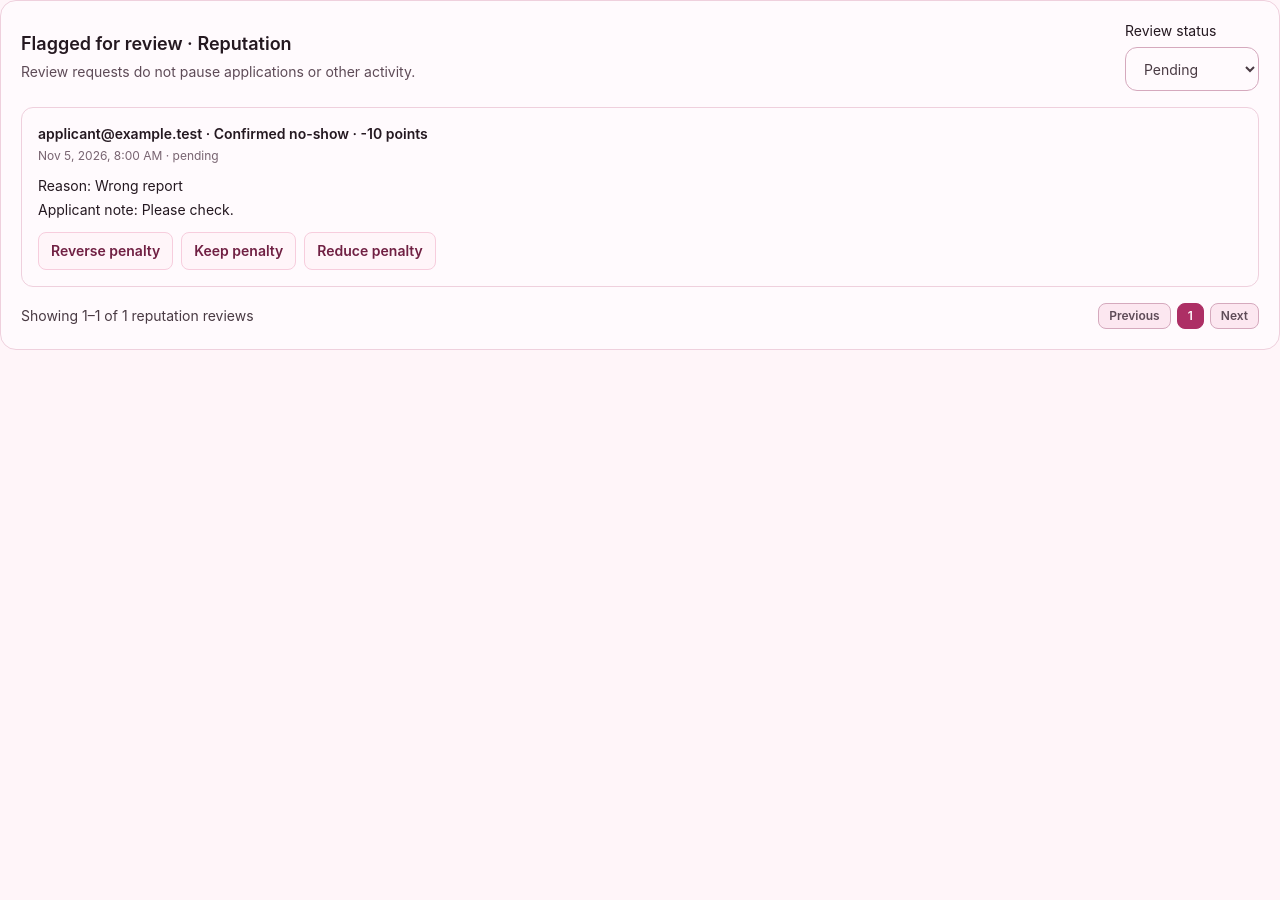
Test: requires confirmation and a private note for the reduce review action
This screenshot has width=1280, height=900.
Click the button "Reduce penalty": [370, 251] box [304,232,436,270]
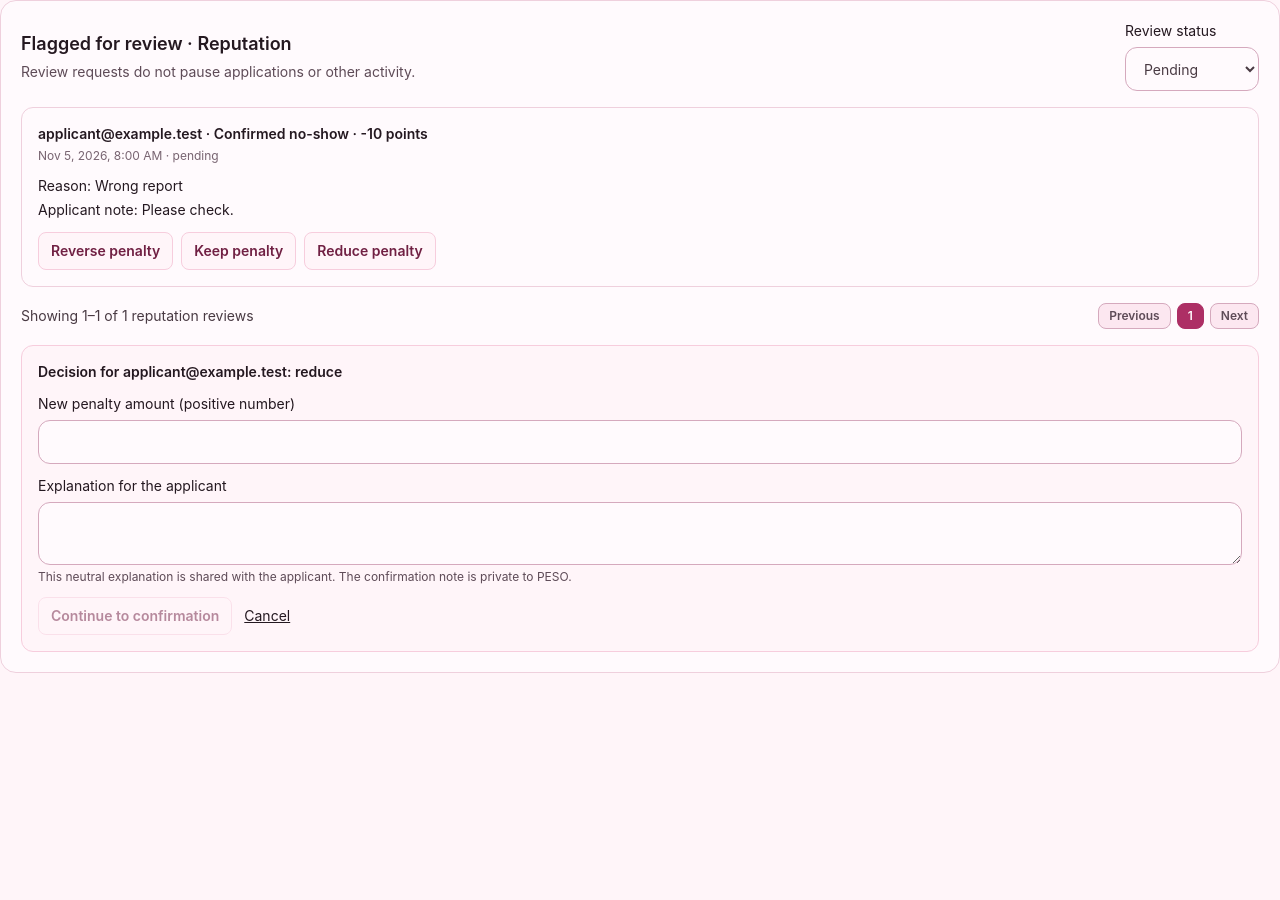
In the text box labelled "Explanation for the applicant": [640, 533] box [38,502,1242,565], type "PESO reviewed the available information."
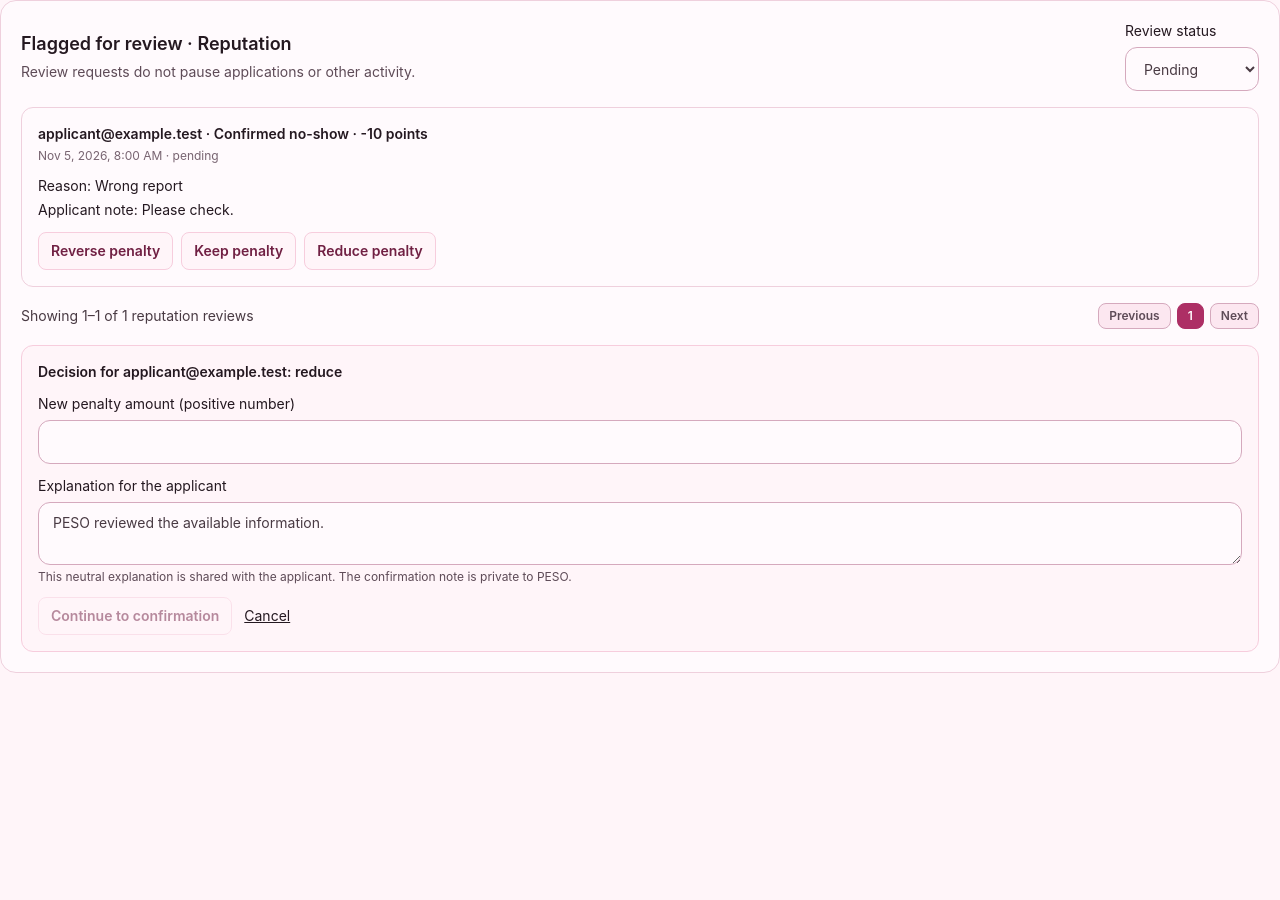
In the number field labelled "New penalty amount (positive number)": [640, 442] box [38,420,1242,464], type "3"
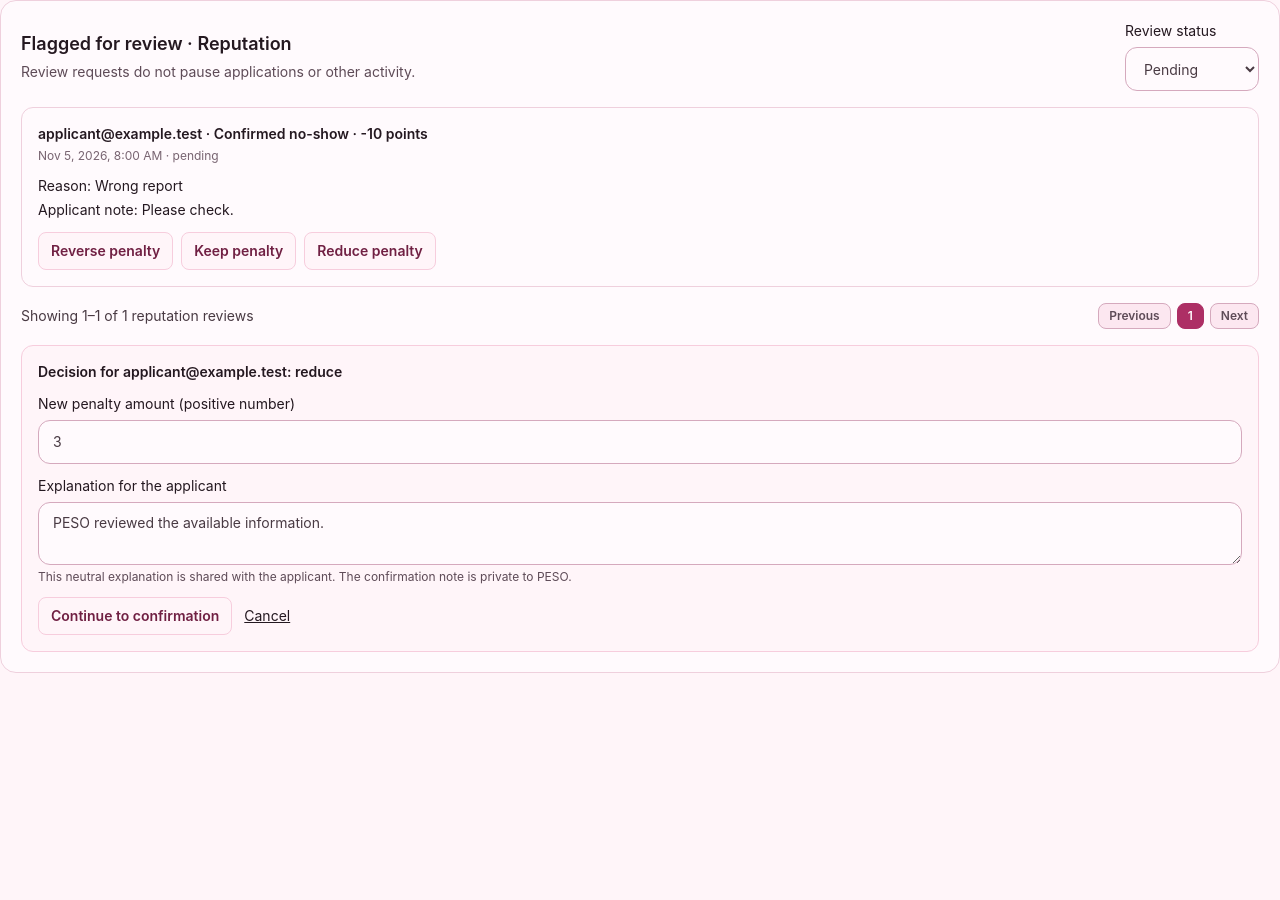
Click the button "Continue to confirmation": [135, 616] box [38,597,232,635]
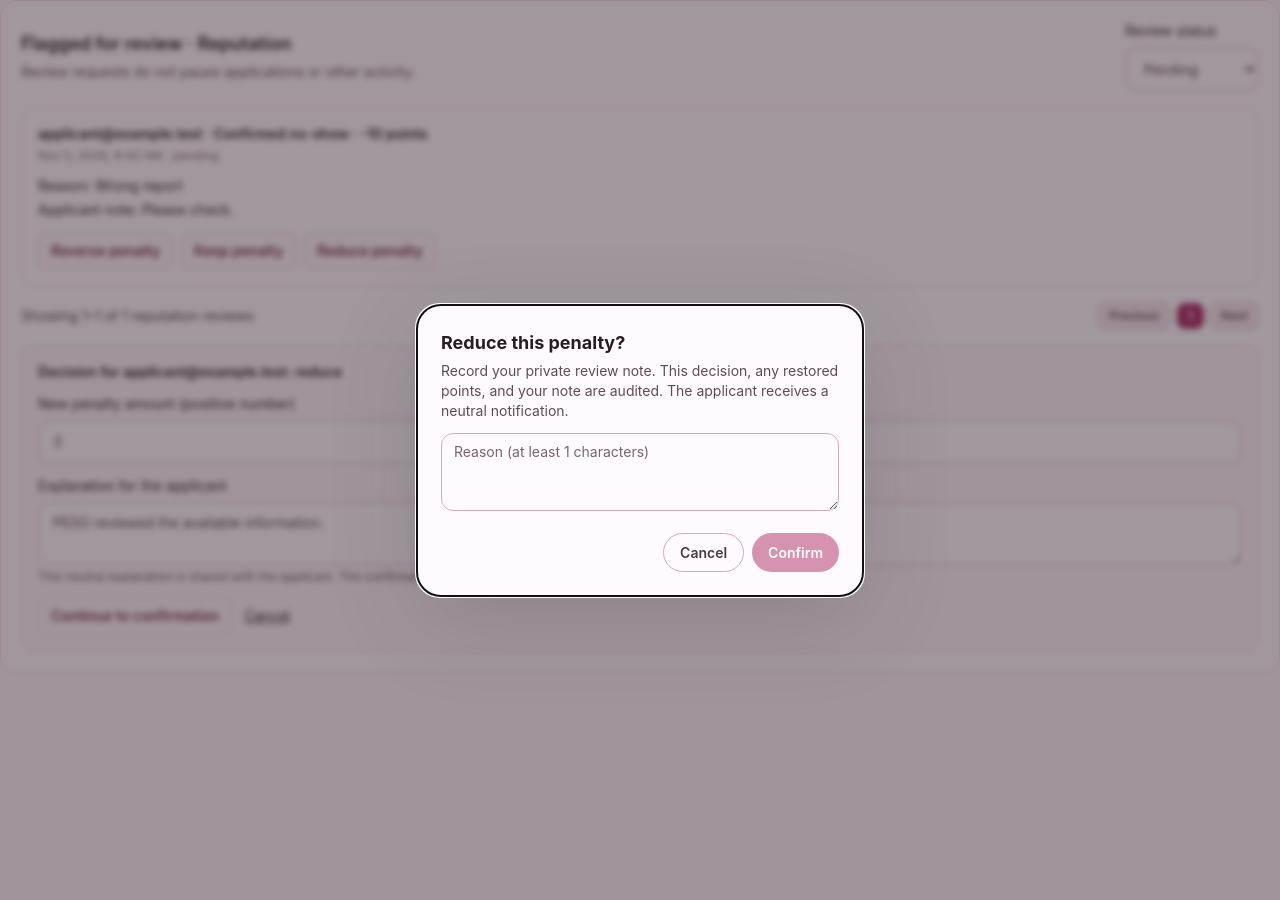
Now the button "Confirm" is disabled, box [752,532,839,572]
In the text box labelled "Reason": [640, 472] box [441,432,839,510], type "Private staff evidence reviewed."
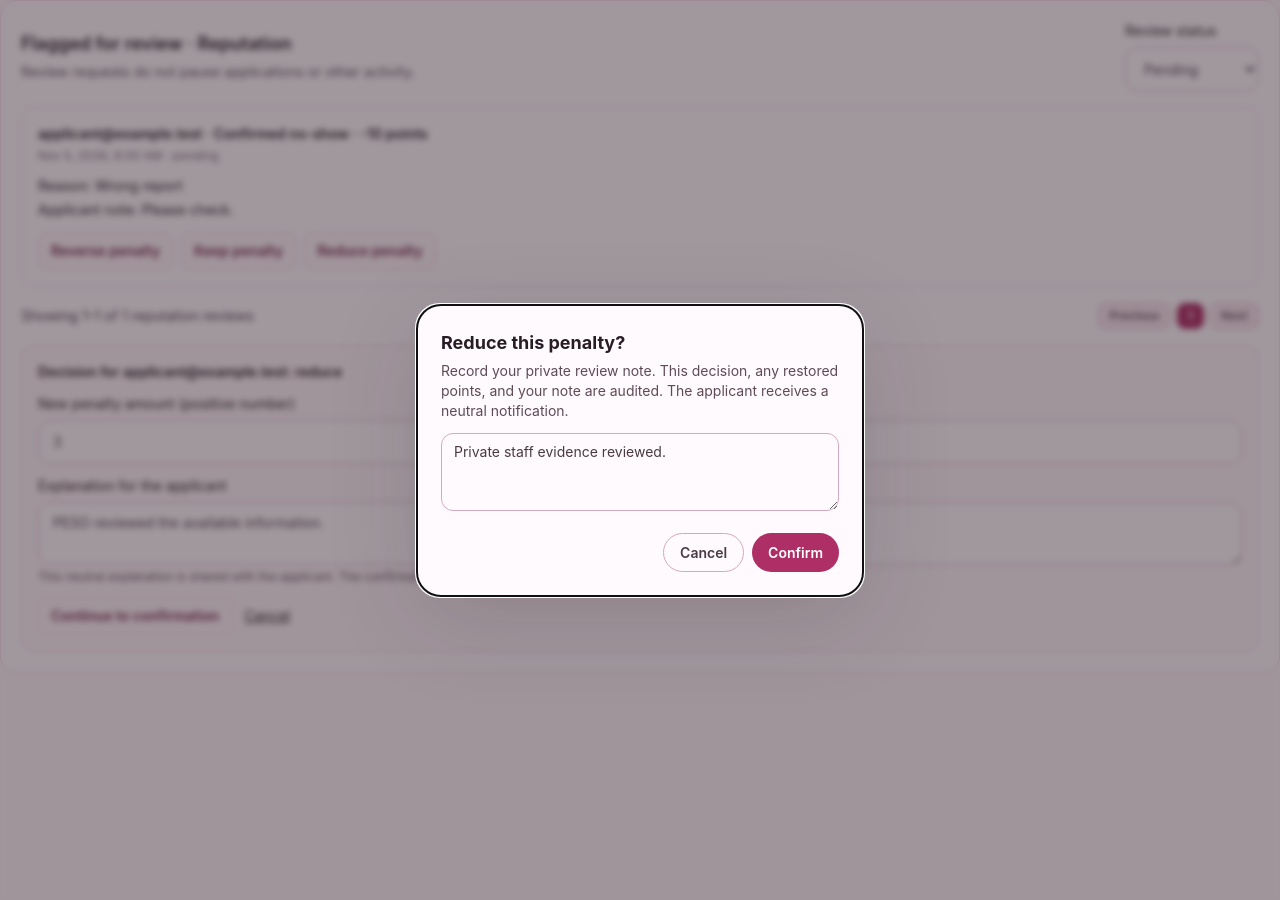
Click the button "Confirm": [796, 552] box [752,532,839,572]
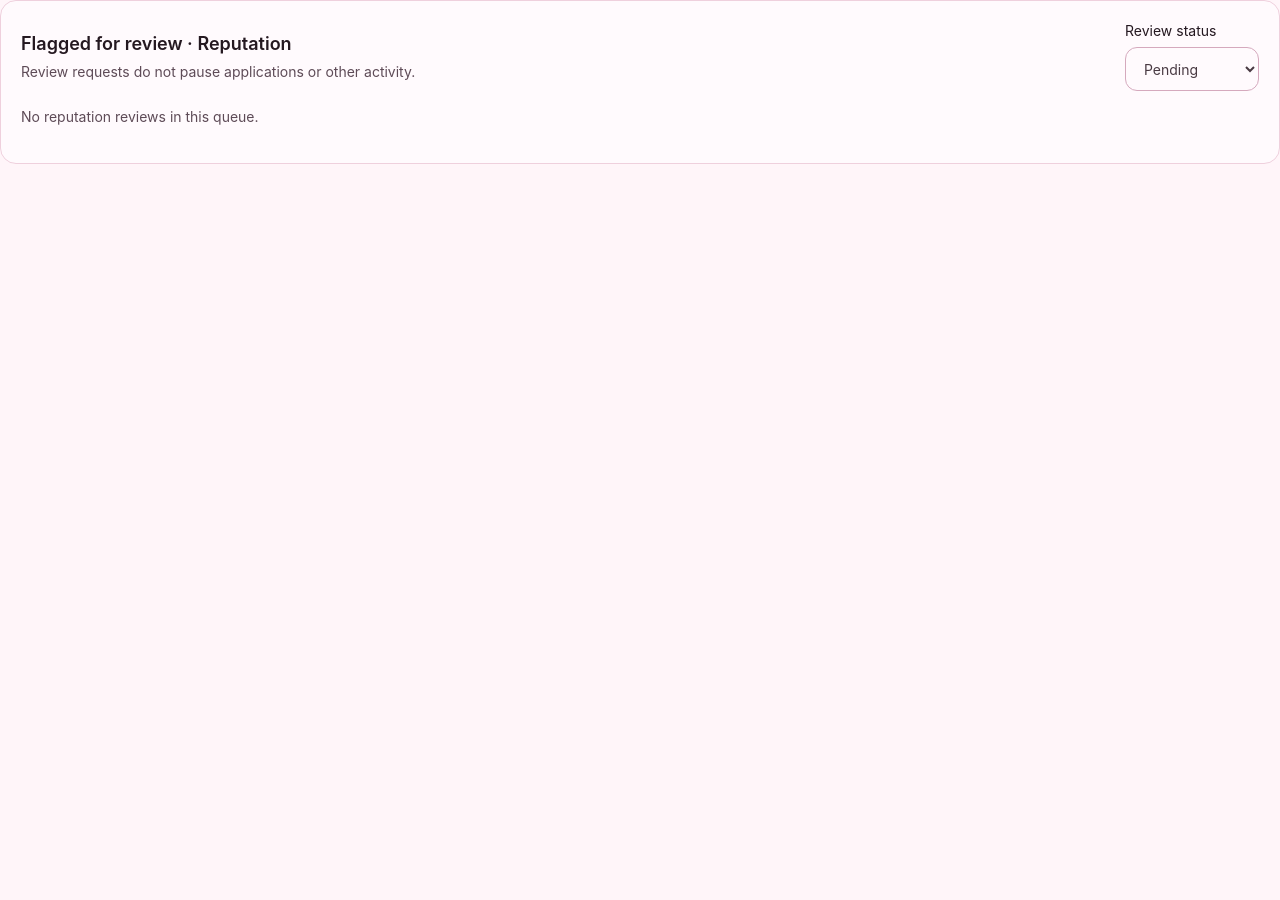
Now the text "No reputation reviews in this queue." is shown, box [21,108,259,125]
